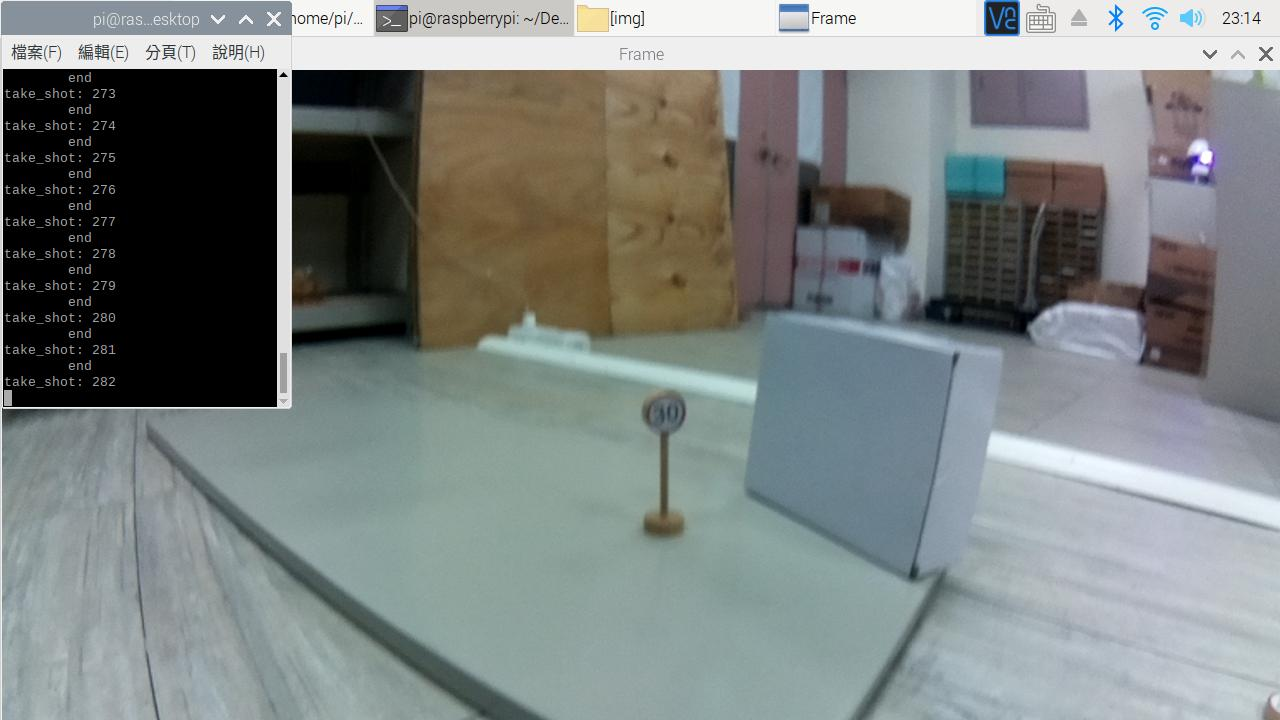Speed30: (630, 381, 705, 449)
